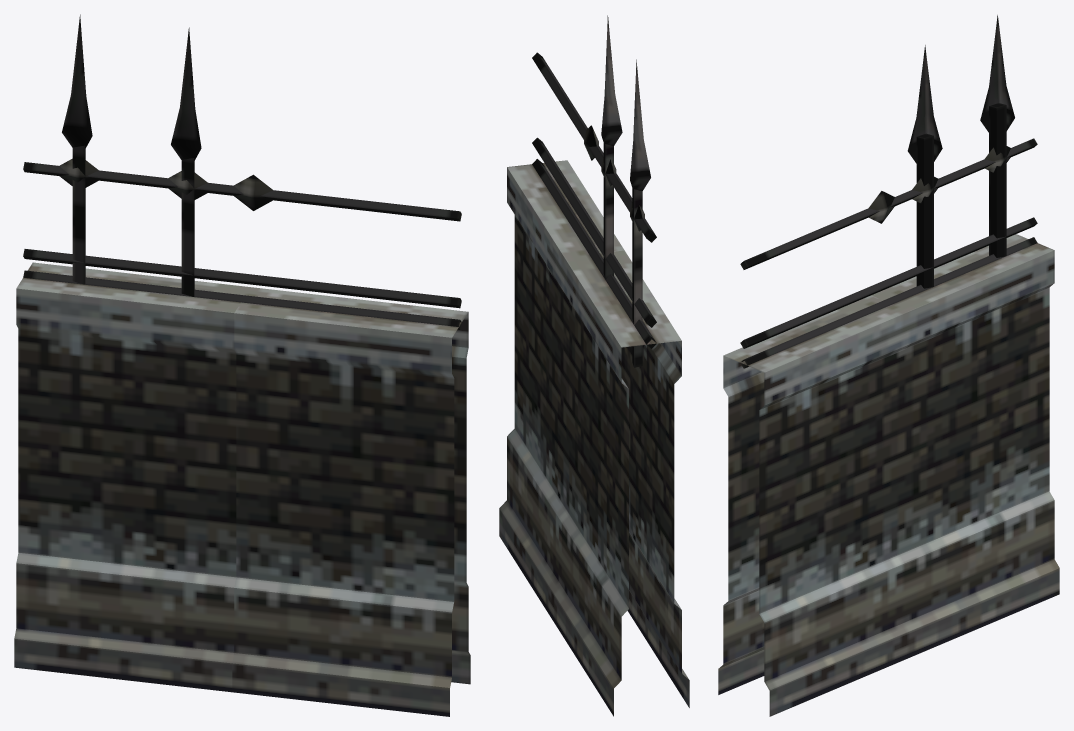
Rendered from EnvBdgMD_Snow_Seidoukikan_A_GrdWall_SL_RF_A_Fence_End.FBX.
3 renders of one model, left to right at view 1: azimuth 30°, elevation 25°; view 2: azimuth 150°, elevation 25°; view 3: azimuth 270°, elevation 25°, orthographic. The views are drawn at different scales.
Parts seen in each view (by area): view 1: EnvBdgMD_Snow_Seidoukikan_A_GrdWall_SL_RF_A_Fence_End; view 2: EnvBdgMD_Snow_Seidoukikan_A_GrdWall_SL_RF_A_Fence_End; view 3: EnvBdgMD_Snow_Seidoukikan_A_GrdWall_SL_RF_A_Fence_End.
Part boxes in pixels (x1,y1,x2,y2): EnvBdgMD_Snow_Seidoukikan_A_GrdWall_SL_RF_A_Fence_End: (14,14,470,716); EnvBdgMD_Snow_Seidoukikan_A_GrdWall_SL_RF_A_Fence_End: (499,15,689,716); EnvBdgMD_Snow_Seidoukikan_A_GrdWall_SL_RF_A_Fence_End: (718,15,1059,716).
Bounding box in the file's own units: 235 × 445 × 235.
1 material, 1 textured.
